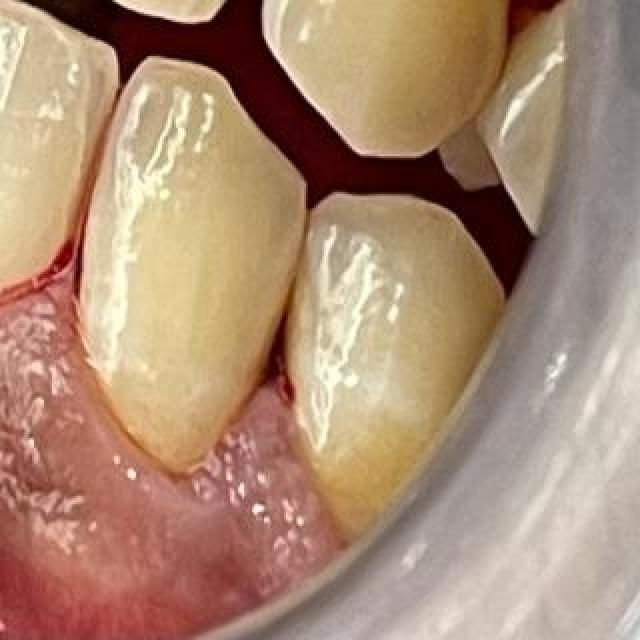spacing: (214, 0, 324, 56)
